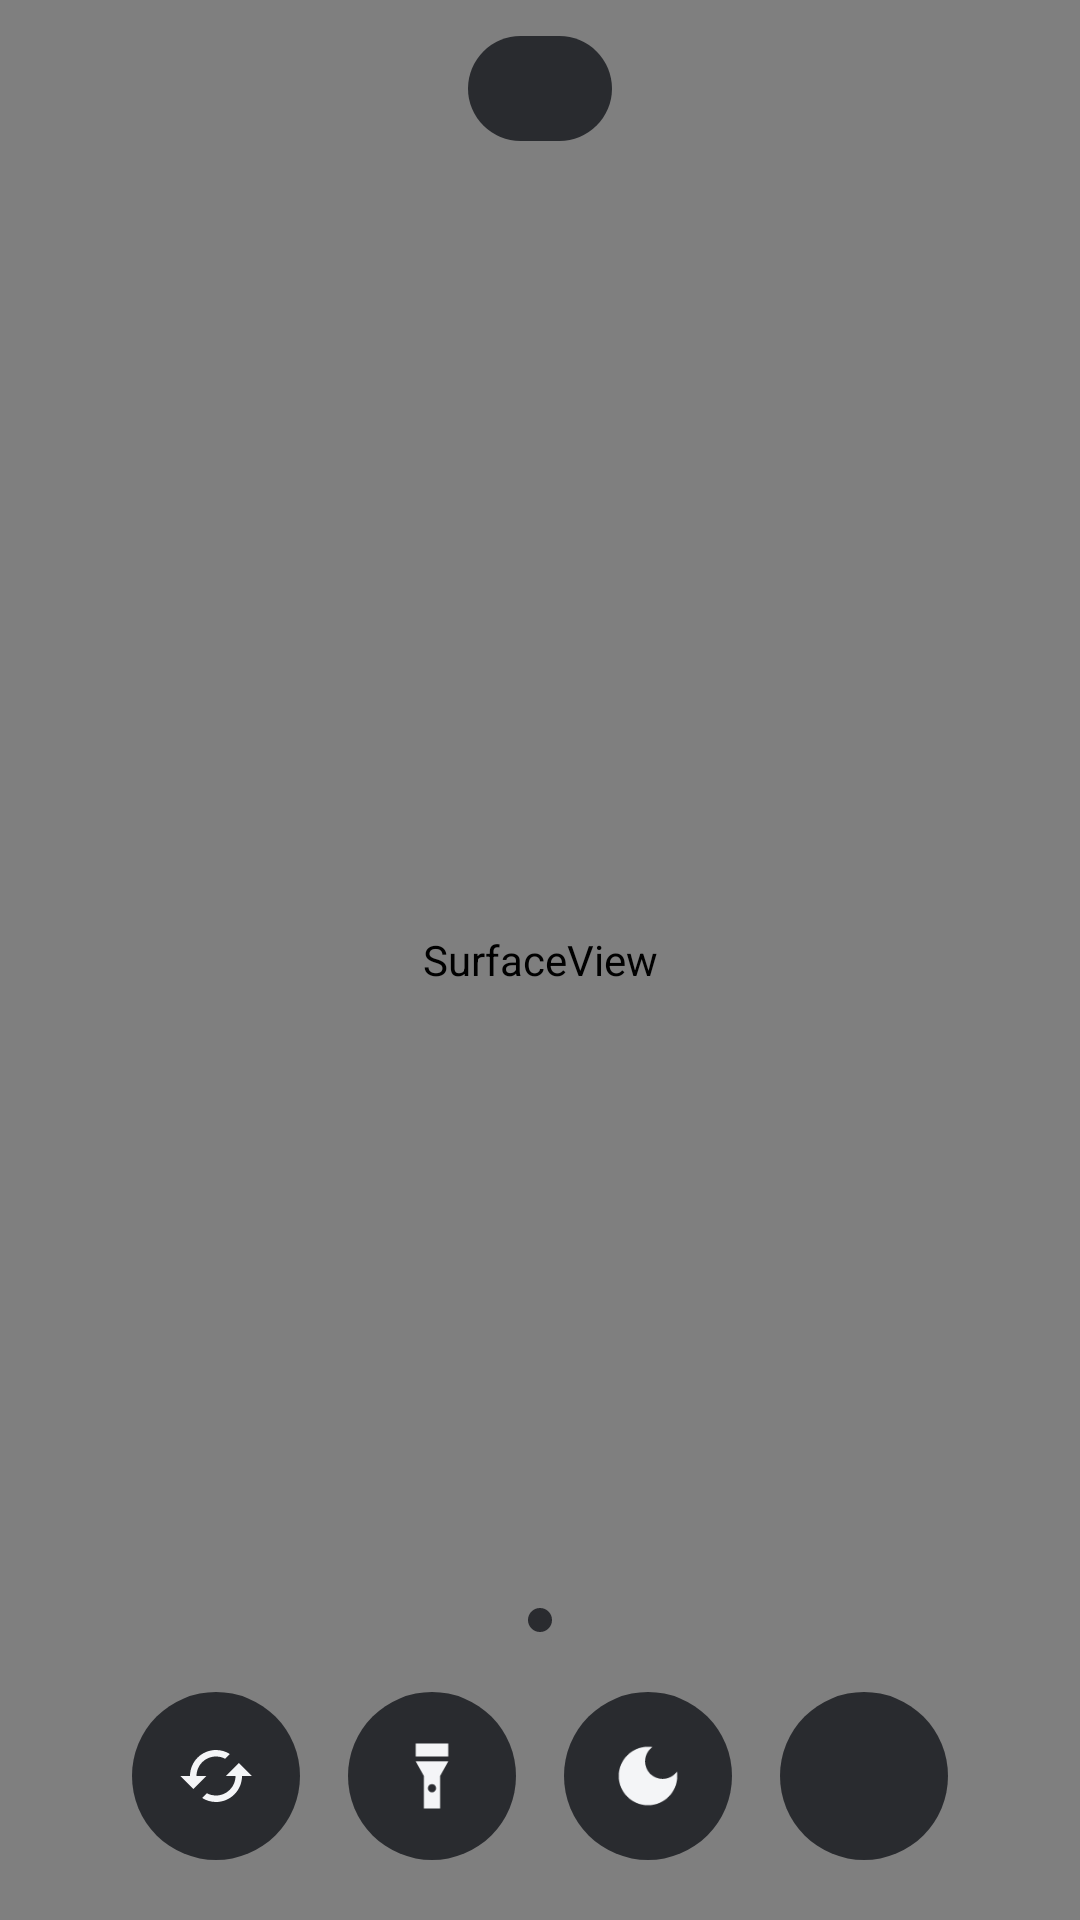

Where icons sit on this 1080 × 1920 app screen, as (x1, y1, x2, y2):
Lanterna: (348, 1692, 516, 1860)
Trocar câmera: (132, 1692, 300, 1860)
